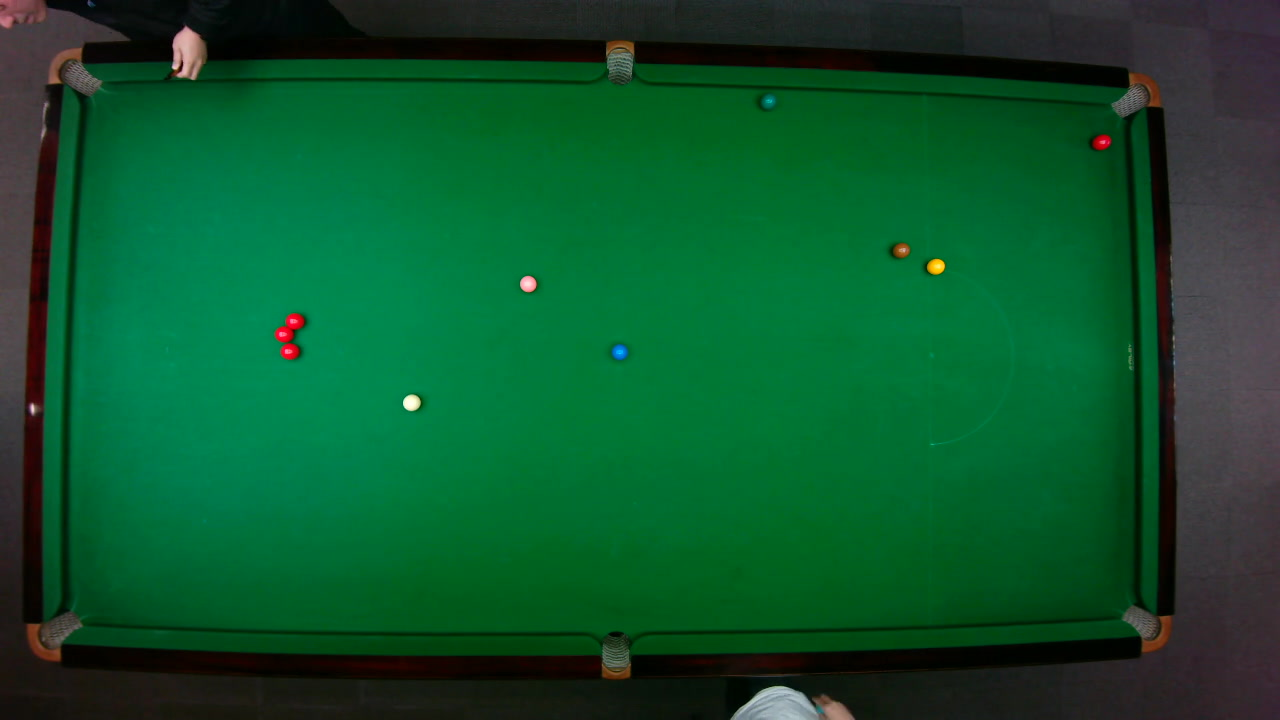bag: (24, 608, 83, 661), (46, 47, 103, 96), (1119, 603, 1172, 652), (1108, 71, 1162, 118), (600, 629, 630, 680), (605, 38, 633, 85)
blue: (610, 343, 628, 360)
brown: (890, 241, 910, 258)
green: (759, 92, 776, 110)
pink: (518, 274, 537, 292)
red: (284, 311, 305, 330), (1090, 132, 1112, 150), (278, 342, 300, 360), (273, 324, 293, 342)
white: (401, 392, 421, 411)
yellow: (925, 257, 946, 275)
zone: (927, 267, 1013, 445)
